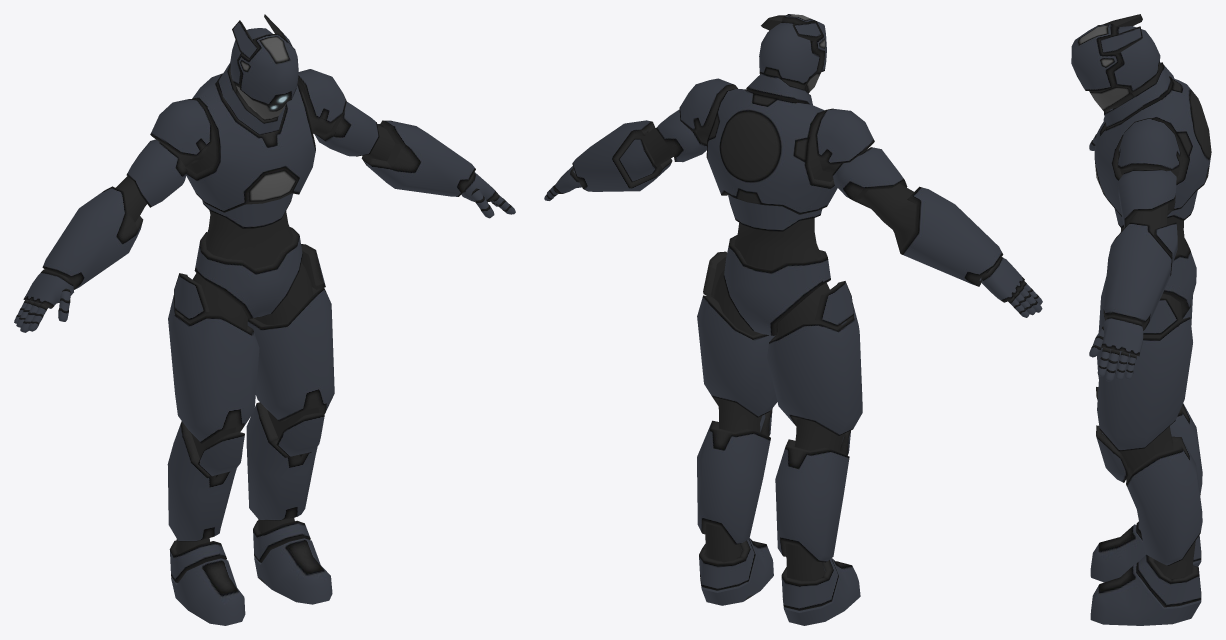
File: robot.glb
3 renders of one model, left to right at view 1: azimuth 30°, elevation 25°; view 2: azimuth 150°, elevation 25°; view 3: azimuth 270°, elevation 25°, orthographic.
Parts seen in each view (by area): view 1: Robot:polySurface1; view 2: Robot:polySurface1; view 3: Robot:polySurface1.
Part boxes in pixels (box(x1,y1,x2,y2)): Robot:polySurface1: box(14, 14, 515, 625); Robot:polySurface1: box(544, 14, 1042, 625); Robot:polySurface1: box(1071, 14, 1211, 625).
Size of the model in its own units: 77.01 by 86.19 by 19.06.
Materials: 1 (1 with a texture image).
